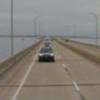cars: (38, 48, 55, 62)
